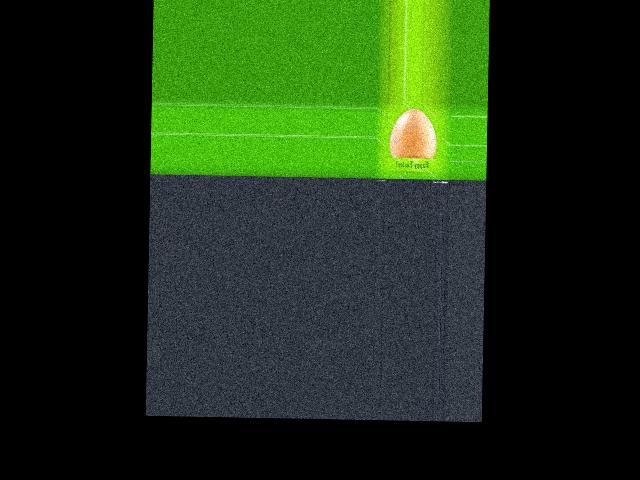egg: (389, 108, 436, 158)
